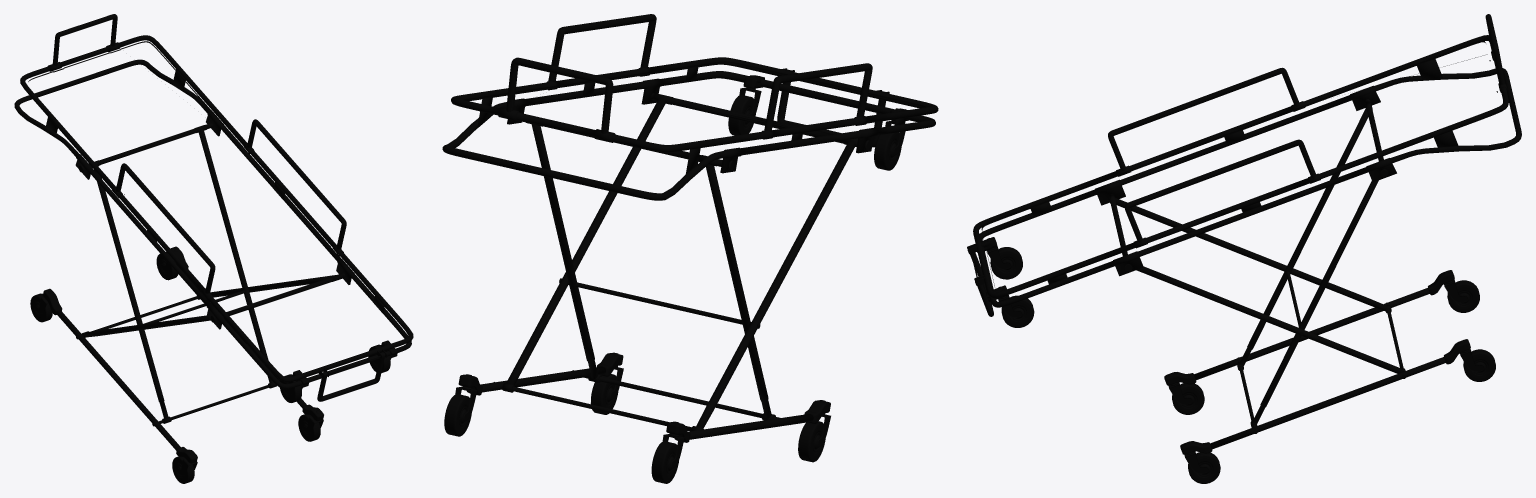
The model's file is hospitalBedEMTCard.glb.
The picture shows the model from 3 angles, left to right: view 1: azimuth 30°, elevation 25°; view 2: azimuth 150°, elevation 25°; view 3: azimuth 270°, elevation 25°; orthographic projection. The views are drawn at different scales.
Visible parts, largest first — view 1: node_id5, node_id8, node_id41, node_id44, node_id53, node_id122, node_id116, node_id35, node_id131, node_id29, node_id32, node_id119 (+4 smaller); view 2: node_id8, node_id5, node_id35, node_id38, node_id44, node_id41, node_id119, node_id116, node_id122, node_id29, node_id131, node_id53 (+13 smaller); view 3: node_id8, node_id5, node_id38, node_id44, node_id35, node_id41, node_id56, node_id122, node_id116, node_id53, node_id131, node_id50 (+2 smaller).
Part boxes in pixels (left/top/right/bottom): node_id5: left=20, top=35, right=413, bottom=382; node_id8: left=14, top=59, right=411, bottom=389; node_id41: left=93, top=164, right=168, bottom=418; node_id44: left=198, top=129, right=273, bottom=383; node_id53: left=56, top=310, right=180, bottom=450; node_id122: left=247, top=119, right=346, bottom=249; node_id116: left=116, top=163, right=215, bottom=293; node_id35: left=85, top=315, right=210, bottom=337; node_id131: left=28, top=41, right=405, bottom=334; node_id29: left=210, top=273, right=345, bottom=322; node_id32: left=78, top=123, right=213, bottom=172; node_id119: left=52, top=14, right=117, bottom=65; node_id8: left=442, top=71, right=935, bottom=200; node_id5: left=451, top=57, right=938, bottom=152; node_id35: left=696, top=140, right=854, bottom=427; node_id38: left=506, top=97, right=665, bottom=384; node_id44: left=531, top=124, right=597, bottom=379; node_id41: left=706, top=164, right=771, bottom=418; node_id119: left=506, top=57, right=613, bottom=133; node_id116: left=764, top=63, right=872, bottom=131; node_id122: left=548, top=14, right=656, bottom=82; node_id29: left=651, top=93, right=870, bottom=150; node_id131: left=464, top=61, right=926, bottom=107; node_id53: left=688, top=414, right=813, bottom=439; node_id8: left=979, top=68, right=1521, bottom=307; node_id5: left=973, top=35, right=1508, bottom=298; node_id38: left=1136, top=266, right=1403, bottom=373; node_id44: left=1252, top=180, right=1378, bottom=423; node_id35: left=1114, top=197, right=1387, bottom=311; node_id41: left=1239, top=107, right=1368, bottom=365; node_id56: left=1210, top=357, right=1445, bottom=449; node_id122: left=1124, top=139, right=1316, bottom=242; node_id116: left=1108, top=67, right=1299, bottom=170; node_id53: left=1194, top=288, right=1429, bottom=380; node_id131: left=981, top=40, right=1497, bottom=286; node_id50: left=1164, top=372, right=1212, bottom=454.
Bounding box in the file's own units: 0.212 × 0.3986 × 0.4949.
59 materials, 59 textured.
